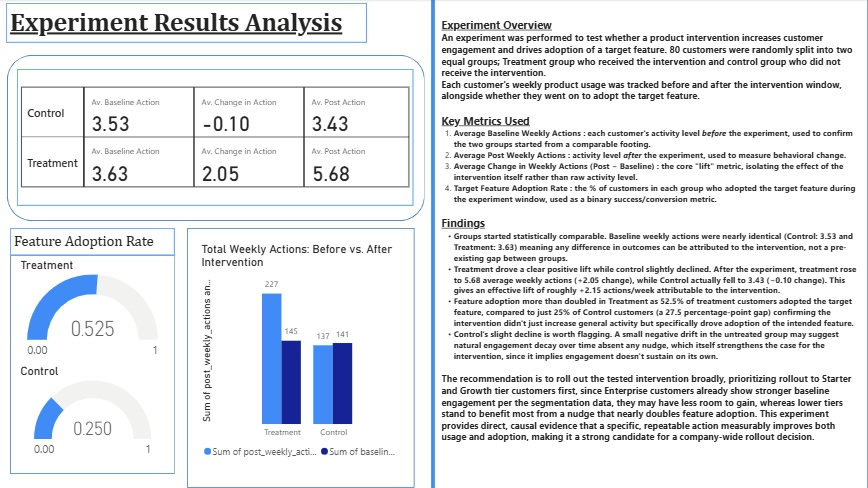

Layout of this report page (visuals, bound fields, positions):
{"tool":"powerbi","page":{"name":"Page 5","canvas":[1280,720],"ordinal":4},"visuals":[{"type":"shape","box":[0,0,1280,720.3],"z":0},{"type":"shape","box":[0,0,640,720.6],"z":1000},{"type":"shape","box":[640,0,638.3,720.6],"z":2000},{"type":"shape","box":[15.7,82.9,611.4,242.9],"z":3000},{"type":"cardVisual","fields":{"Rows":["experiments (2).group"],"Data":["Sheet2.Av. Baseline Action","Sheet2.Av. Change in Action","Sheet2.Av. Post Action"]},"box":[30,104.3,580,200],"z":4000},{"type":"shape","box":[280,337.1,332.9,380],"z":5000},{"type":"clusteredColumnChart","title":"Total Weekly Actions: Before vs. After Intervention","fields":{"Category":["experiments (2).group"],"Y":["Sum(experiments (2).post_weekly_actions)","Sum(experiments (2).baseline_weekly_actions)"]},"box":[295.7,357.1,301.4,325.7],"z":6000},{"type":"shape","box":[20,375.7,241.4,320],"z":7000},{"type":"gauge","title":"Treatment","fields":{"Y":["Sum(Sheet4.Average of target_feature_adopted2)"],"MaxValue":["Sheet2.Target"]},"box":[30,380,221.4,155.7],"z":8000},{"type":"gauge","title":"Control","fields":{"Y":["Sum(Sheet4.Average of target_feature_adopted2)"],"MaxValue":["Sheet2.Target"]},"box":[30,535.7,221.4,145.7],"z":9000},{"type":"textbox","box":[15,7.5,527.5,57.5],"z":10000},{"type":"textbox","box":[647.1,22.9,621.4,680],"z":11000},{"type":"textbox","box":[20,337.1,241.4,40],"z":12000}]}

Visuals, with their boxes in screenshot pixels (x1, y1, x2, y2), scaled from the page's 1280x720 canvas onto the 868x488 screenshot:
shape: rect(0, 0, 867, 487)
shape: rect(0, 0, 434, 487)
shape: rect(434, 0, 867, 487)
shape: rect(11, 56, 425, 221)
cardVisual - experiments (2).group x Sheet2.Av. Baseline Action: rect(20, 71, 414, 206)
shape: rect(190, 228, 416, 486)
"Total Weekly Actions: Before vs. After Intervention" clusteredColumnChart: rect(201, 242, 405, 463)
shape: rect(14, 255, 177, 472)
"Treatment" gauge: rect(20, 258, 170, 363)
"Control" gauge: rect(20, 363, 170, 462)
textbox: rect(10, 5, 368, 44)
textbox: rect(439, 16, 860, 476)
textbox: rect(14, 228, 177, 256)
